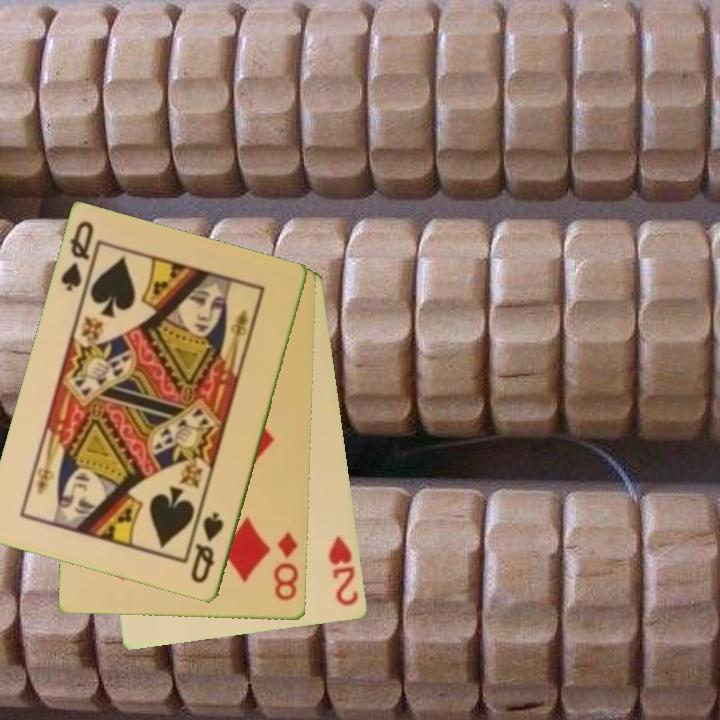2h: (325, 532, 362, 609)
8d: (270, 529, 302, 604)
Qs: (187, 509, 227, 587), (57, 217, 97, 295)
